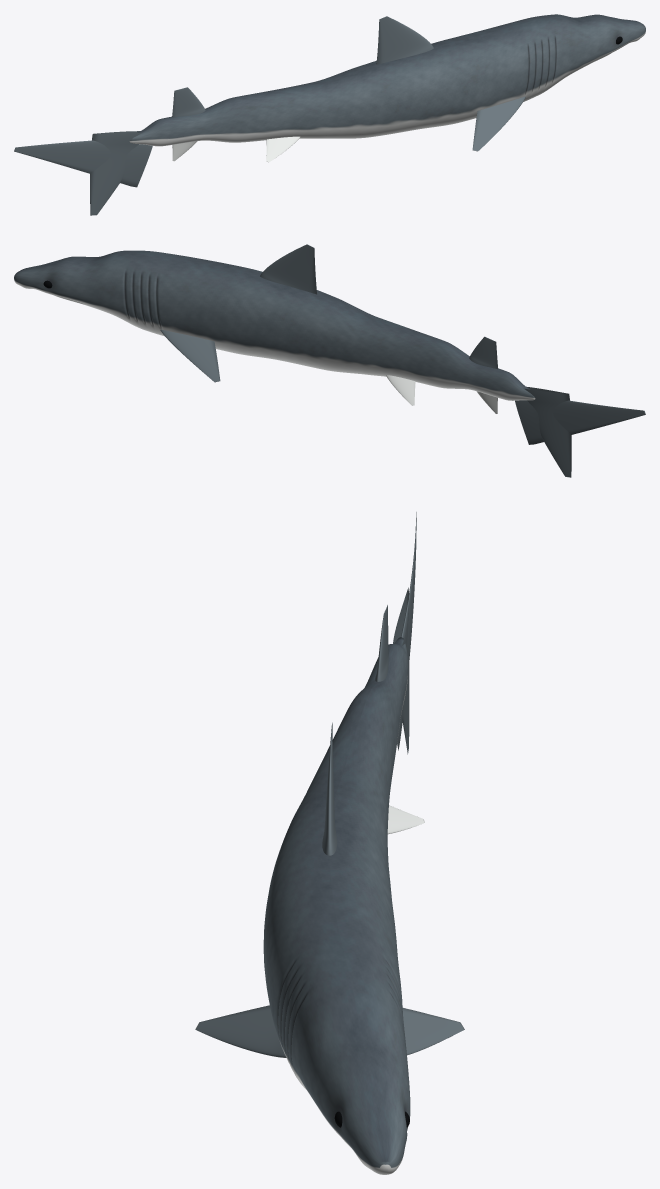
Rendered from tope_shark.glb.
3 renders of one model, top to bottom at view 1: azimuth 30°, elevation 25°; view 2: azimuth 150°, elevation 25°; view 3: azimuth 270°, elevation 25°, orthographic. The views are drawn at different scales.
Visible parts, largest first — view 1: tope_shark_Body, tope_shark_Fins; view 2: tope_shark_Body, tope_shark_Fins; view 3: tope_shark_Body, tope_shark_Fins.
Part boxes in pixels (x1=…): tope_shark_Body: x1=129, y1=14, x2=645, y2=146; tope_shark_Fins: x1=14, y1=16, x2=525, y2=215; tope_shark_Body: x1=14, y1=250, x2=535, y2=400; tope_shark_Fins: x1=160, y1=244, x2=645, y2=477; tope_shark_Body: x1=263, y1=637, x2=410, y2=1174; tope_shark_Fins: x1=195, y1=512, x2=464, y2=1057.
Size of the model in its own units: 1.6 by 0.3601 by 0.2998.
Materials: 3 (1 with a texture image).
